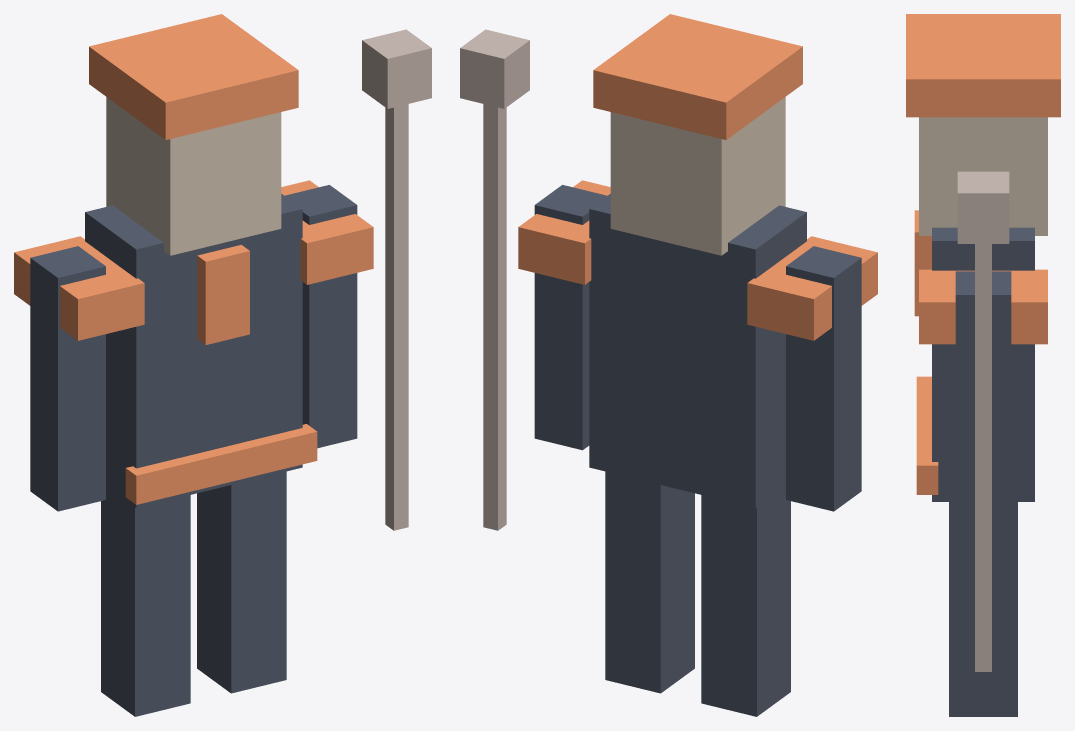
File: 16_kiva_trenchmark_ranger_under_missile.glb
The picture shows the model from 3 angles, left to right: view 1: azimuth 30°, elevation 25°; view 2: azimuth 150°, elevation 25°; view 3: azimuth 270°, elevation 25°; orthographic projection.
Visible parts, largest first — view 1: Kiva Trenchmark, Ranger under Missile; view 2: Kiva Trenchmark, Ranger under Missile; view 3: Kiva Trenchmark, Ranger under Missile.
Part boxes in pixels (box(x1,y1,x2,y2)): Kiva Trenchmark, Ranger under Missile: box(14, 14, 431, 716); Kiva Trenchmark, Ranger under Missile: box(460, 14, 877, 716); Kiva Trenchmark, Ranger under Missile: box(906, 14, 1060, 716).
Bounding box in the file's own units: 1.07 × 1.72 × 0.3804.
